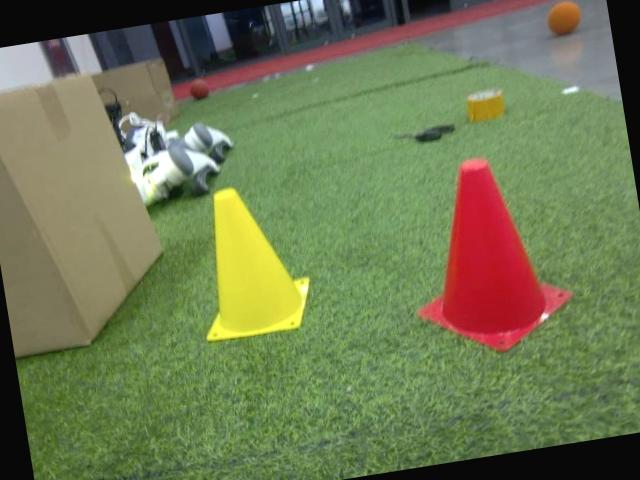orange_ball: (541, 0, 584, 37)
red_barrel: (394, 143, 579, 366)
yellow_barrel: (178, 174, 318, 350)
